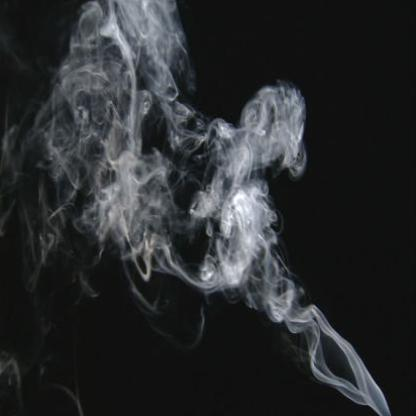smoke: (47, 0, 193, 270), (185, 82, 311, 306)
